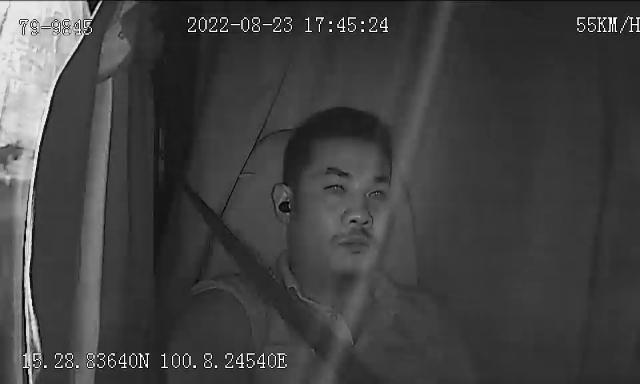SafeDriving: (266, 184, 302, 225), (360, 176, 392, 207), (319, 170, 352, 200)
Seatbelt: (163, 162, 391, 384)
